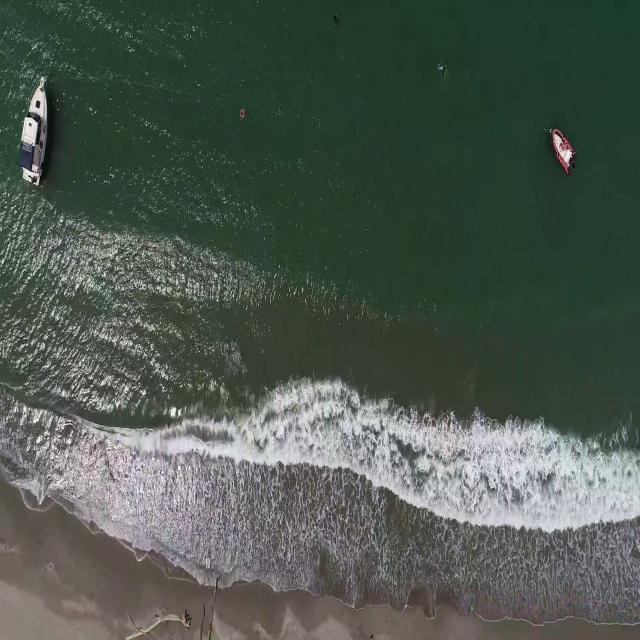boat: (18, 72, 51, 184), (548, 126, 579, 173)
life_buoy: (237, 106, 248, 120)
person: (435, 58, 449, 83), (329, 12, 341, 26)
wood: (125, 609, 193, 637), (199, 576, 219, 640)
